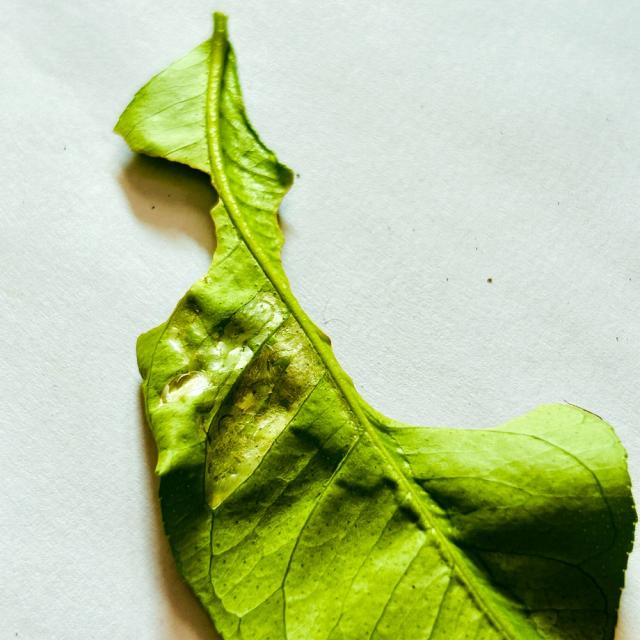Deficiency Leaf: (280, 161, 584, 428), (115, 154, 217, 314)
Lemon: (115, 13, 637, 639)
